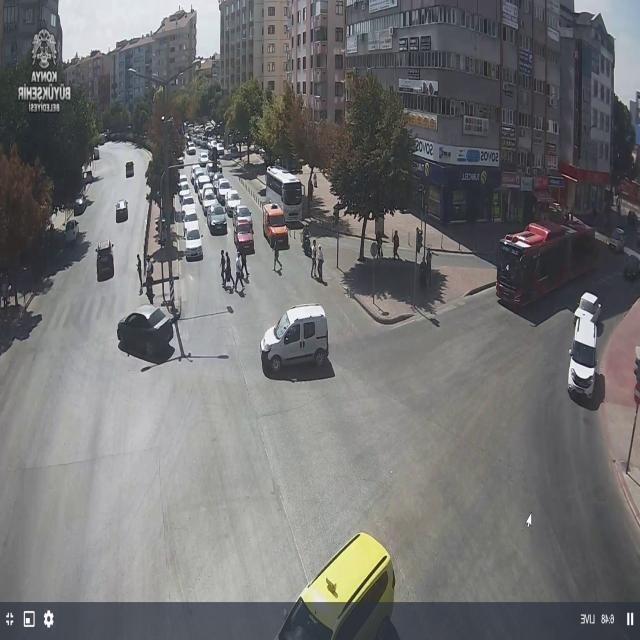Bus: (489, 216, 594, 313), (263, 166, 309, 227)
Car: (560, 318, 608, 398), (116, 305, 174, 356), (262, 206, 292, 247), (180, 227, 210, 260), (96, 242, 114, 280), (206, 206, 228, 234), (234, 227, 255, 254), (225, 192, 243, 217), (216, 182, 234, 206), (234, 205, 253, 227), (182, 204, 199, 228), (64, 219, 79, 244), (202, 194, 219, 216), (196, 174, 212, 195), (115, 200, 128, 222), (73, 196, 87, 216), (212, 174, 226, 194), (178, 185, 192, 204), (192, 166, 206, 185), (205, 162, 218, 178), (199, 151, 209, 164), (187, 143, 196, 155), (177, 155, 184, 166)
Van: (255, 303, 335, 374)
